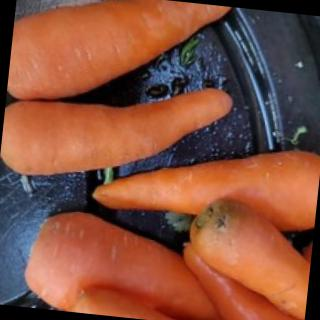Wortel: (1, 66, 233, 194), (7, 1, 232, 120)
